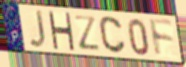0: (126, 17, 151, 58)
C: (98, 16, 128, 55)
F: (147, 17, 176, 58)
H: (47, 10, 76, 52)
J: (28, 9, 47, 49)
Z: (72, 14, 102, 52)
